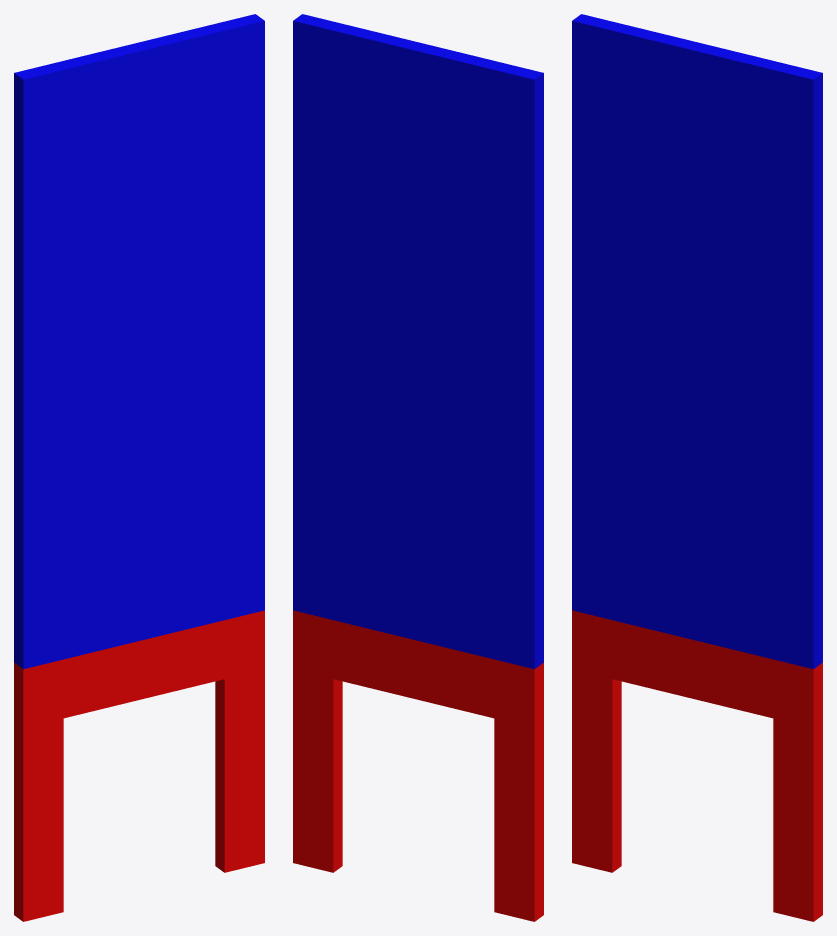
File: SM_300Lx20Dx1000H_Door.FBX
The picture shows the model from 3 angles, left to right: view 1: azimuth 30°, elevation 25°; view 2: azimuth 150°, elevation 25°; view 3: azimuth 330°, elevation 25°; orthographic projection.
Visible parts, largest first — view 1: SM_300Lx20Dx1000H_Door; view 2: SM_300Lx20Dx1000H_Door; view 3: SM_300Lx20Dx1000H_Door.
Boxes of the visible parts, x1=… form: SM_300Lx20Dx1000H_Door: x1=14, y1=14, x2=264, y2=921; SM_300Lx20Dx1000H_Door: x1=293, y1=14, x2=543, y2=921; SM_300Lx20Dx1000H_Door: x1=572, y1=14, x2=822, y2=921.
Bounding box in the file's own units: 300 × 1000 × 20.
